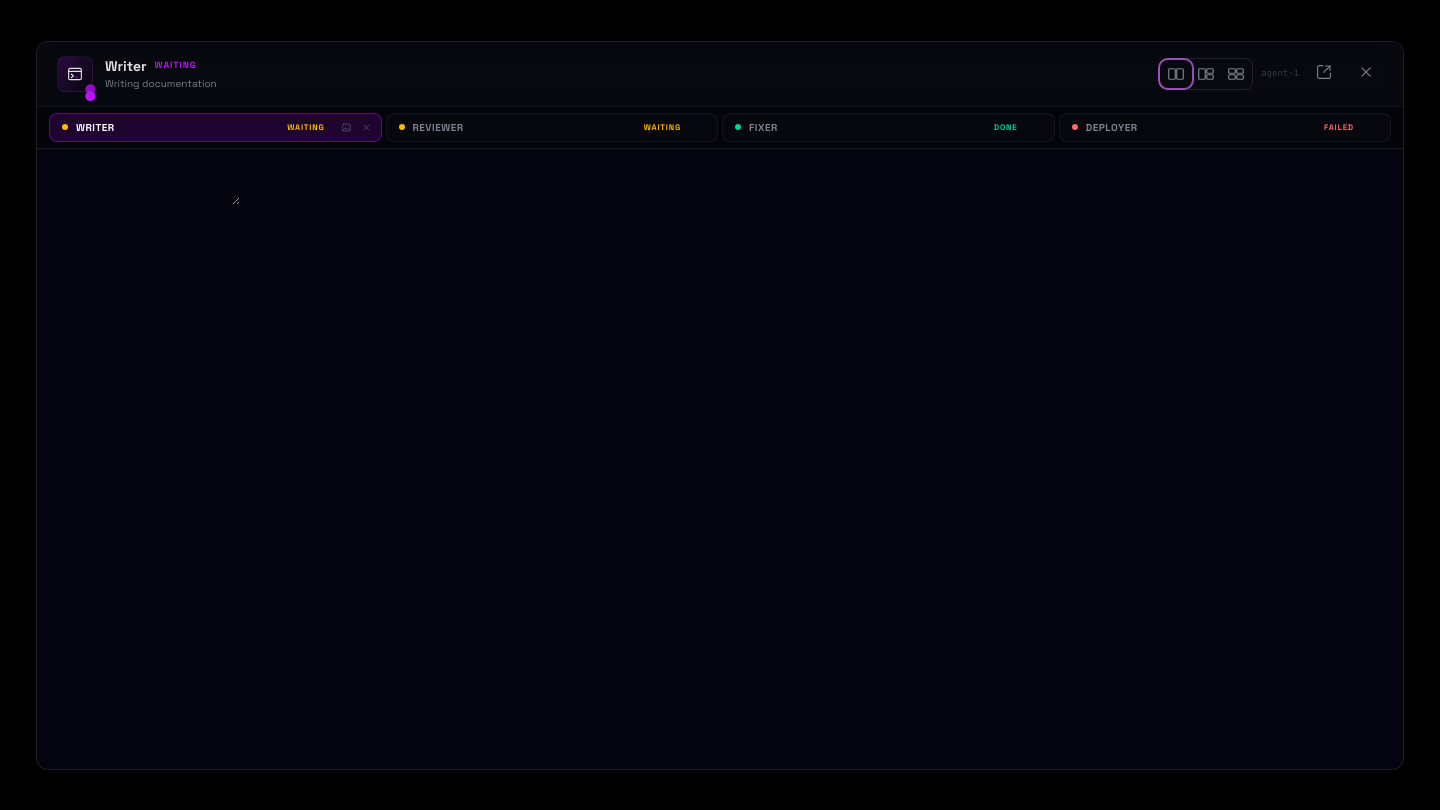
Test: AgentTerminalModal › agent tabs › asks before stopping a running agent, and does not stop until answered
Click the button named "Stop Writer". click: coordinates (366, 127)
box: [356,117,376,137]
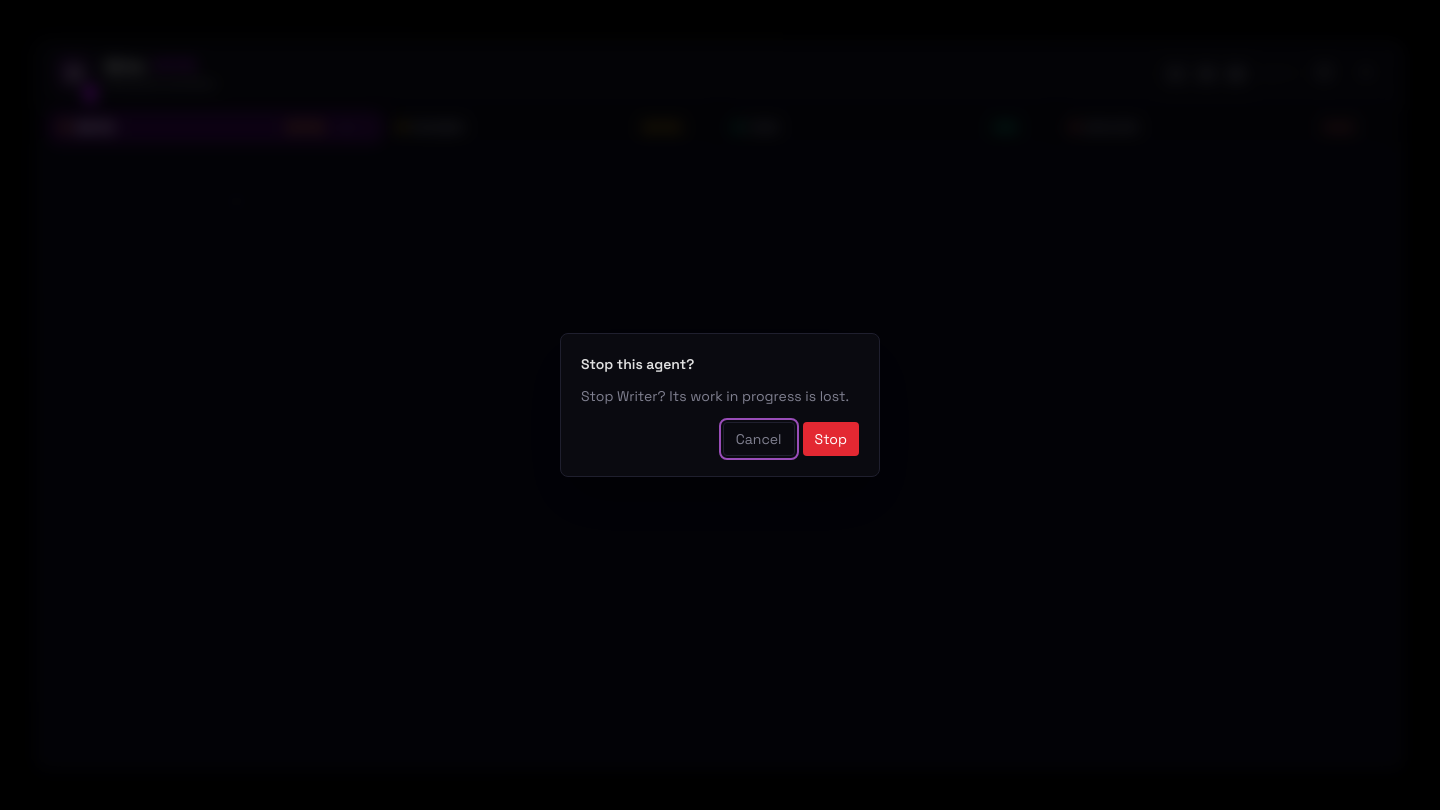
Now the dialog "Stop this agent?" shows "Stop Writer? Its work in progress is lost.", box [581,387,849,405]
